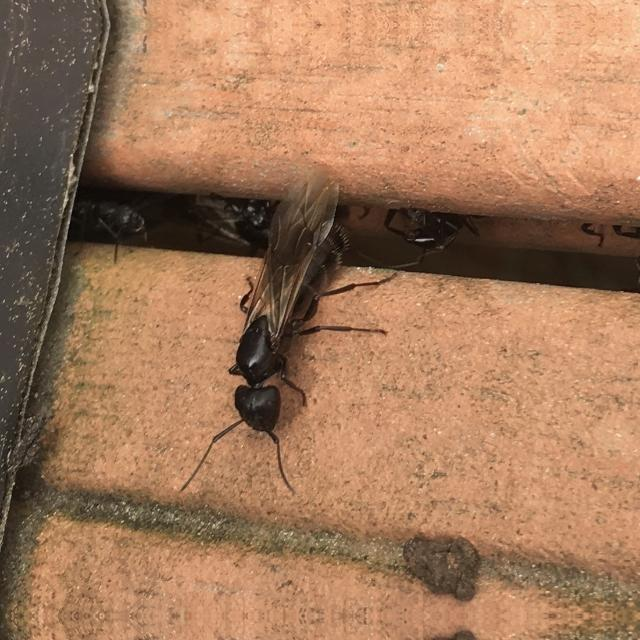Camponotus: (195, 170, 362, 468)
